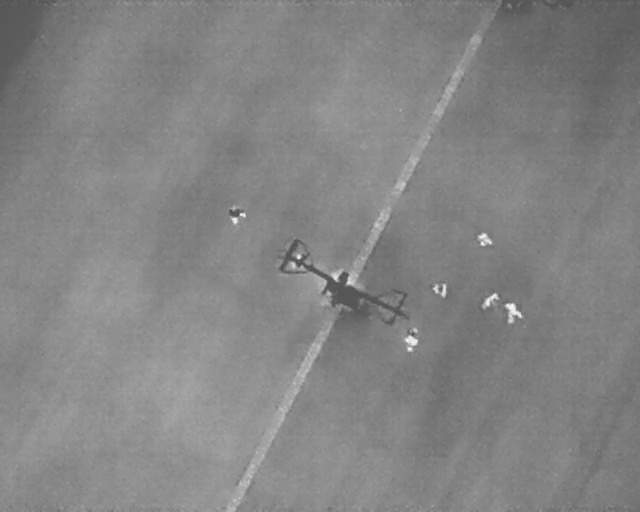Person: (476, 287, 504, 315), (402, 323, 422, 355), (226, 203, 248, 226), (504, 300, 523, 324), (432, 279, 449, 301), (476, 231, 493, 249)
